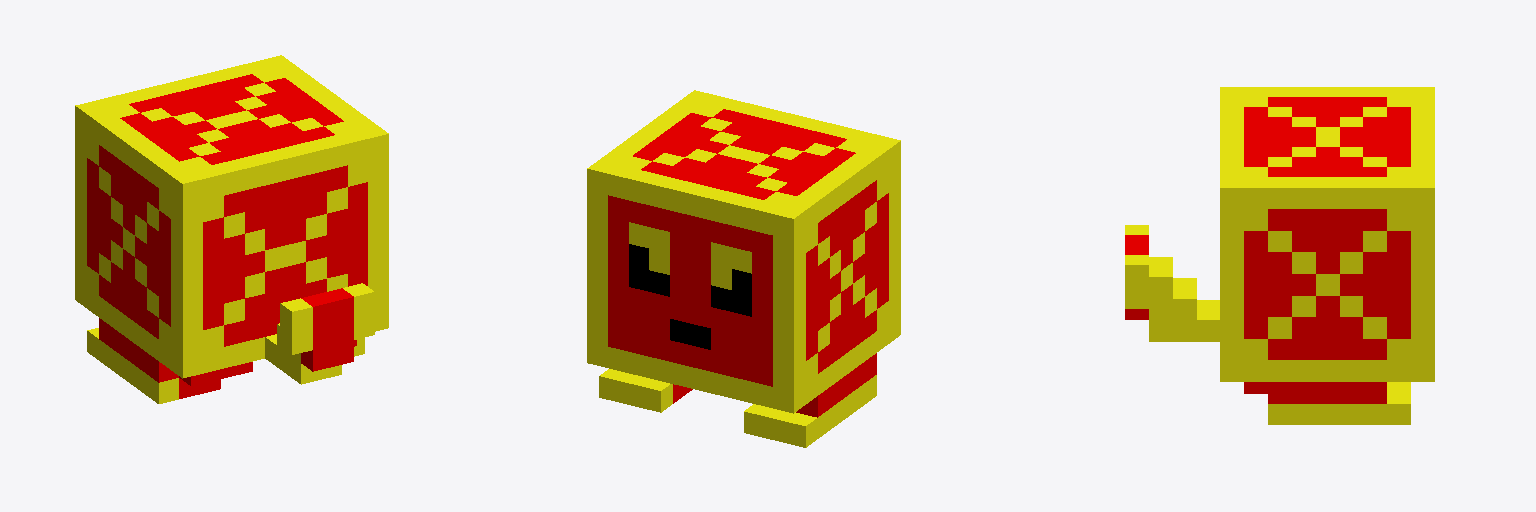
The picture shows the model from 3 angles: view 1: azimuth 30°, elevation 25°; view 2: azimuth 150°, elevation 25°; view 3: azimuth 270°, elevation 25°; orthographic projection.
Size of the model in its own units: 10 by 11 by 13.
1 materials, 1 textured.